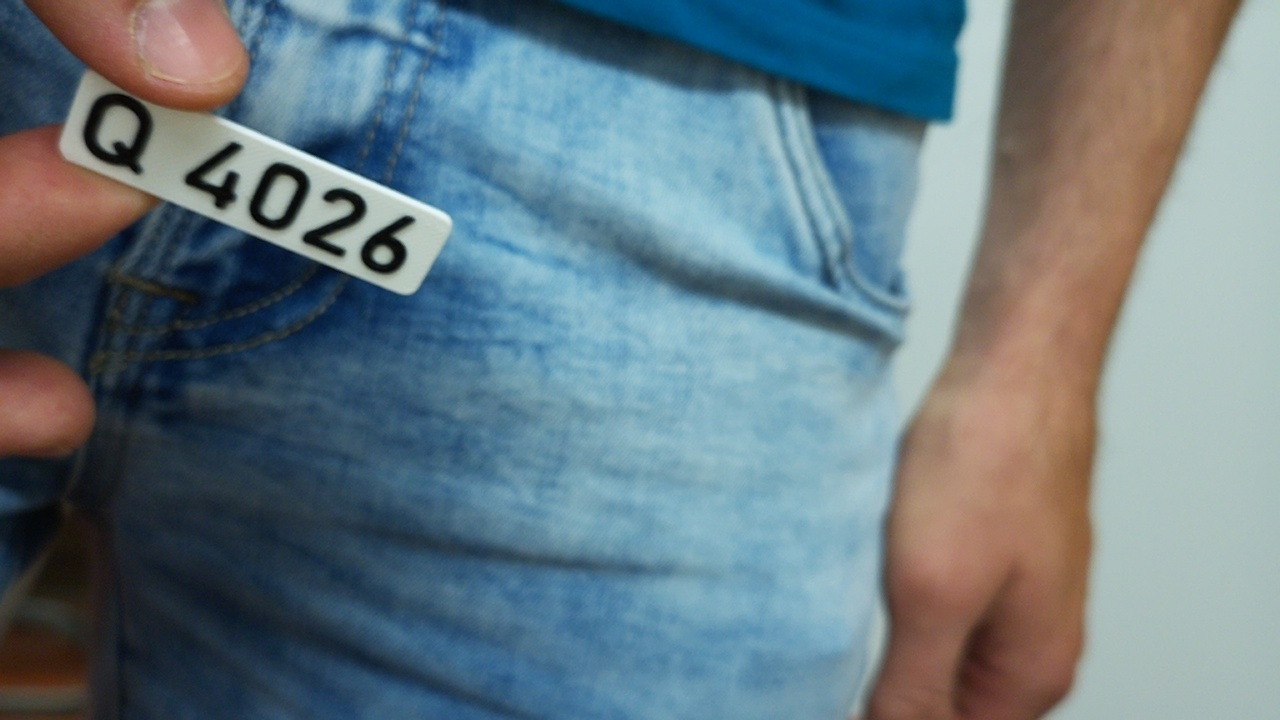license_plate: (55, 66, 455, 301)
